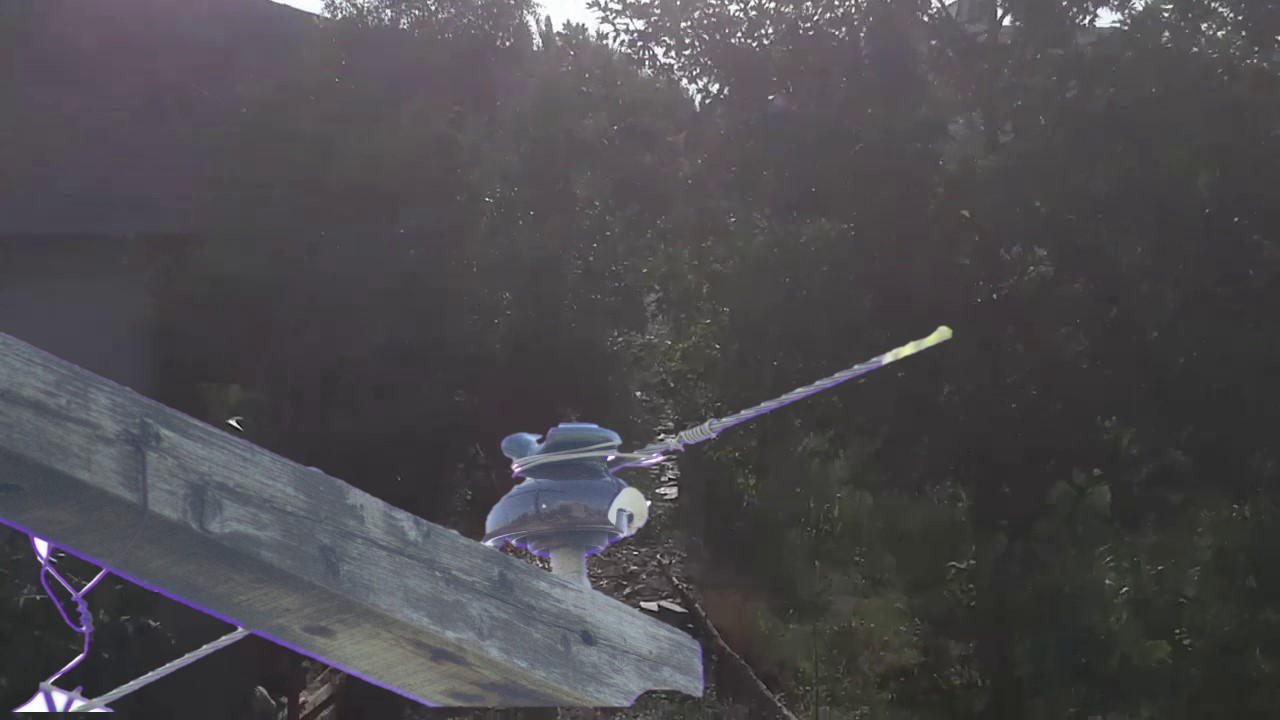defect_pin: (469, 414, 659, 564)
